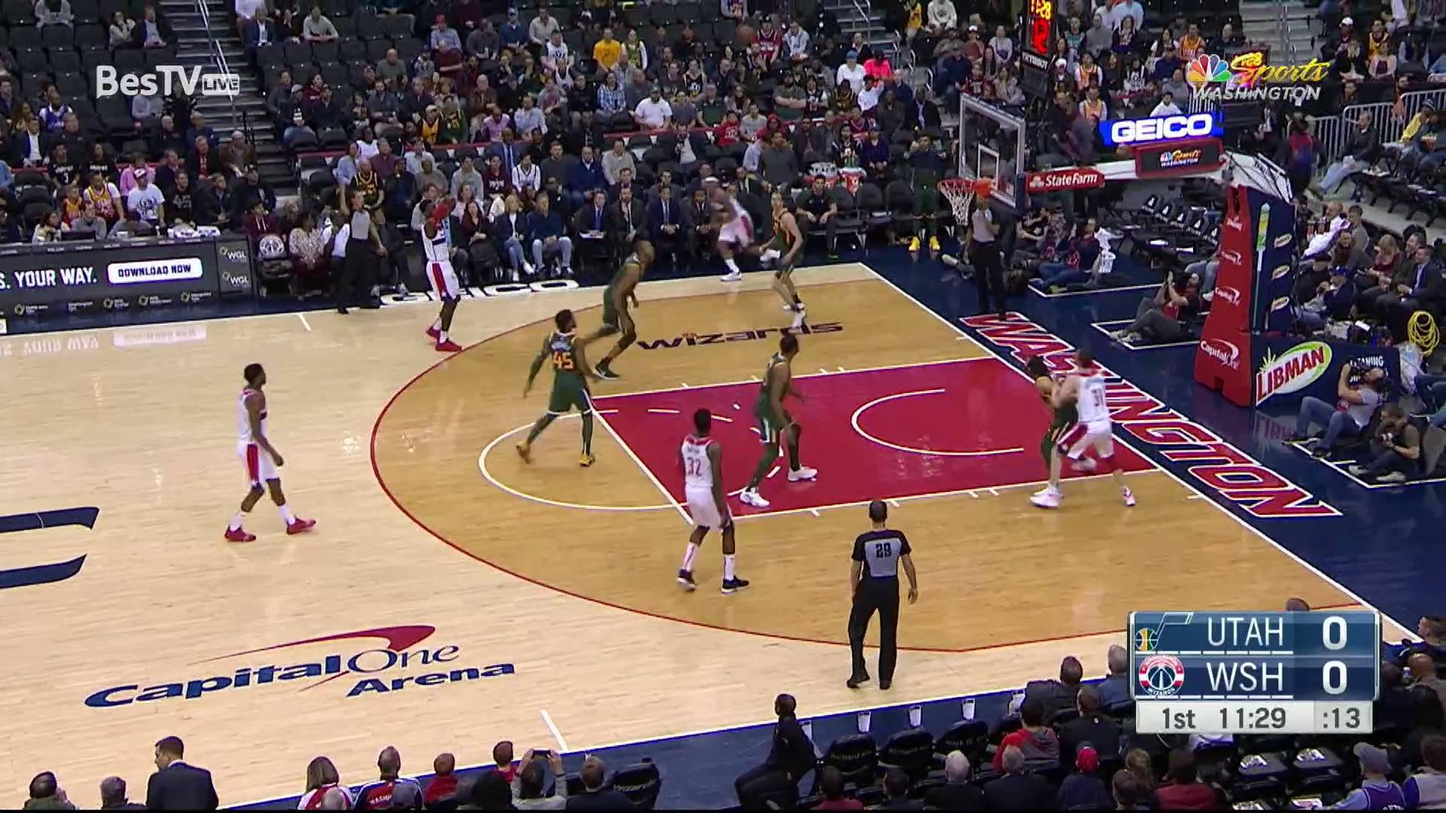basketball: (733, 21, 757, 46)
